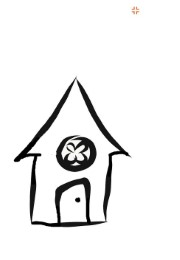bottom_placed_house: (1, 1, 180, 260)
closed_window: (54, 131, 100, 176)
door: (54, 173, 100, 232)
single_line_roof: (10, 71, 138, 165)
wall: (26, 149, 116, 232)
